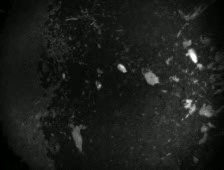corn: (187, 46, 200, 67), (115, 61, 129, 76), (93, 78, 103, 91), (60, 70, 67, 81)
